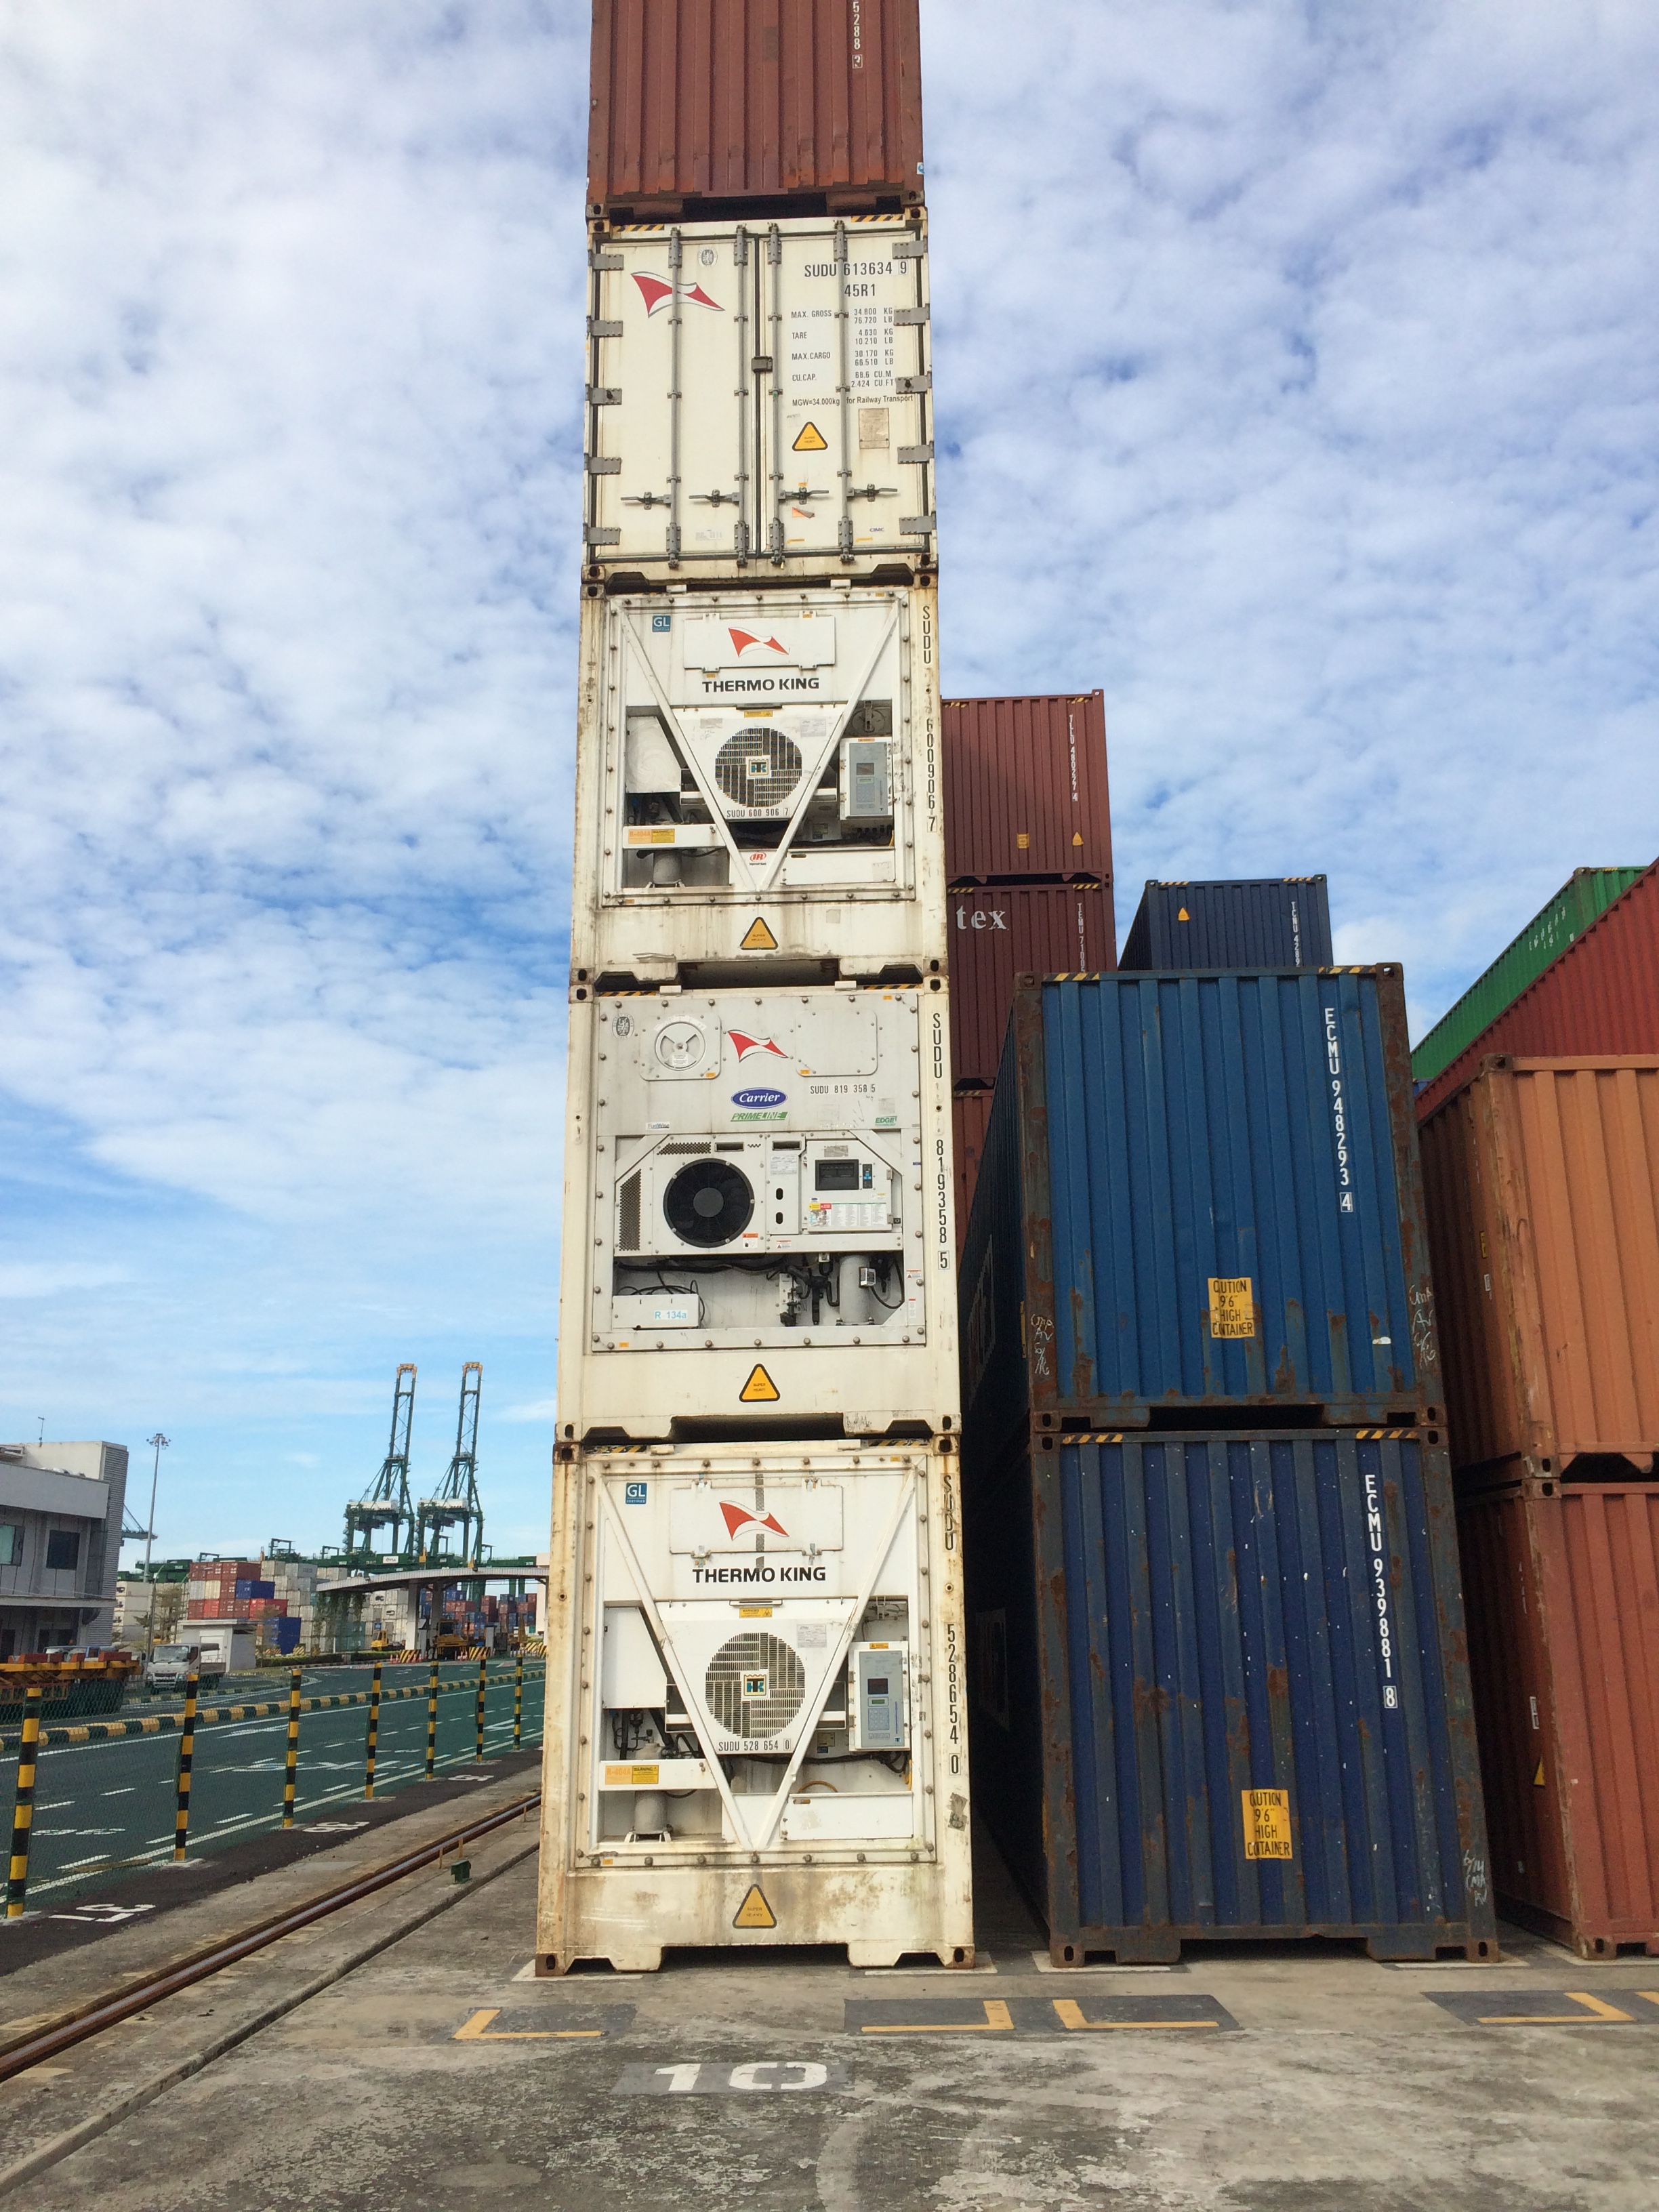container_door: (586, 209, 934, 582)
container_no_door: (1040, 1425, 1499, 1973), (1039, 968, 1448, 1426), (589, 0, 936, 199), (955, 888, 1122, 1092), (945, 685, 1112, 887)
